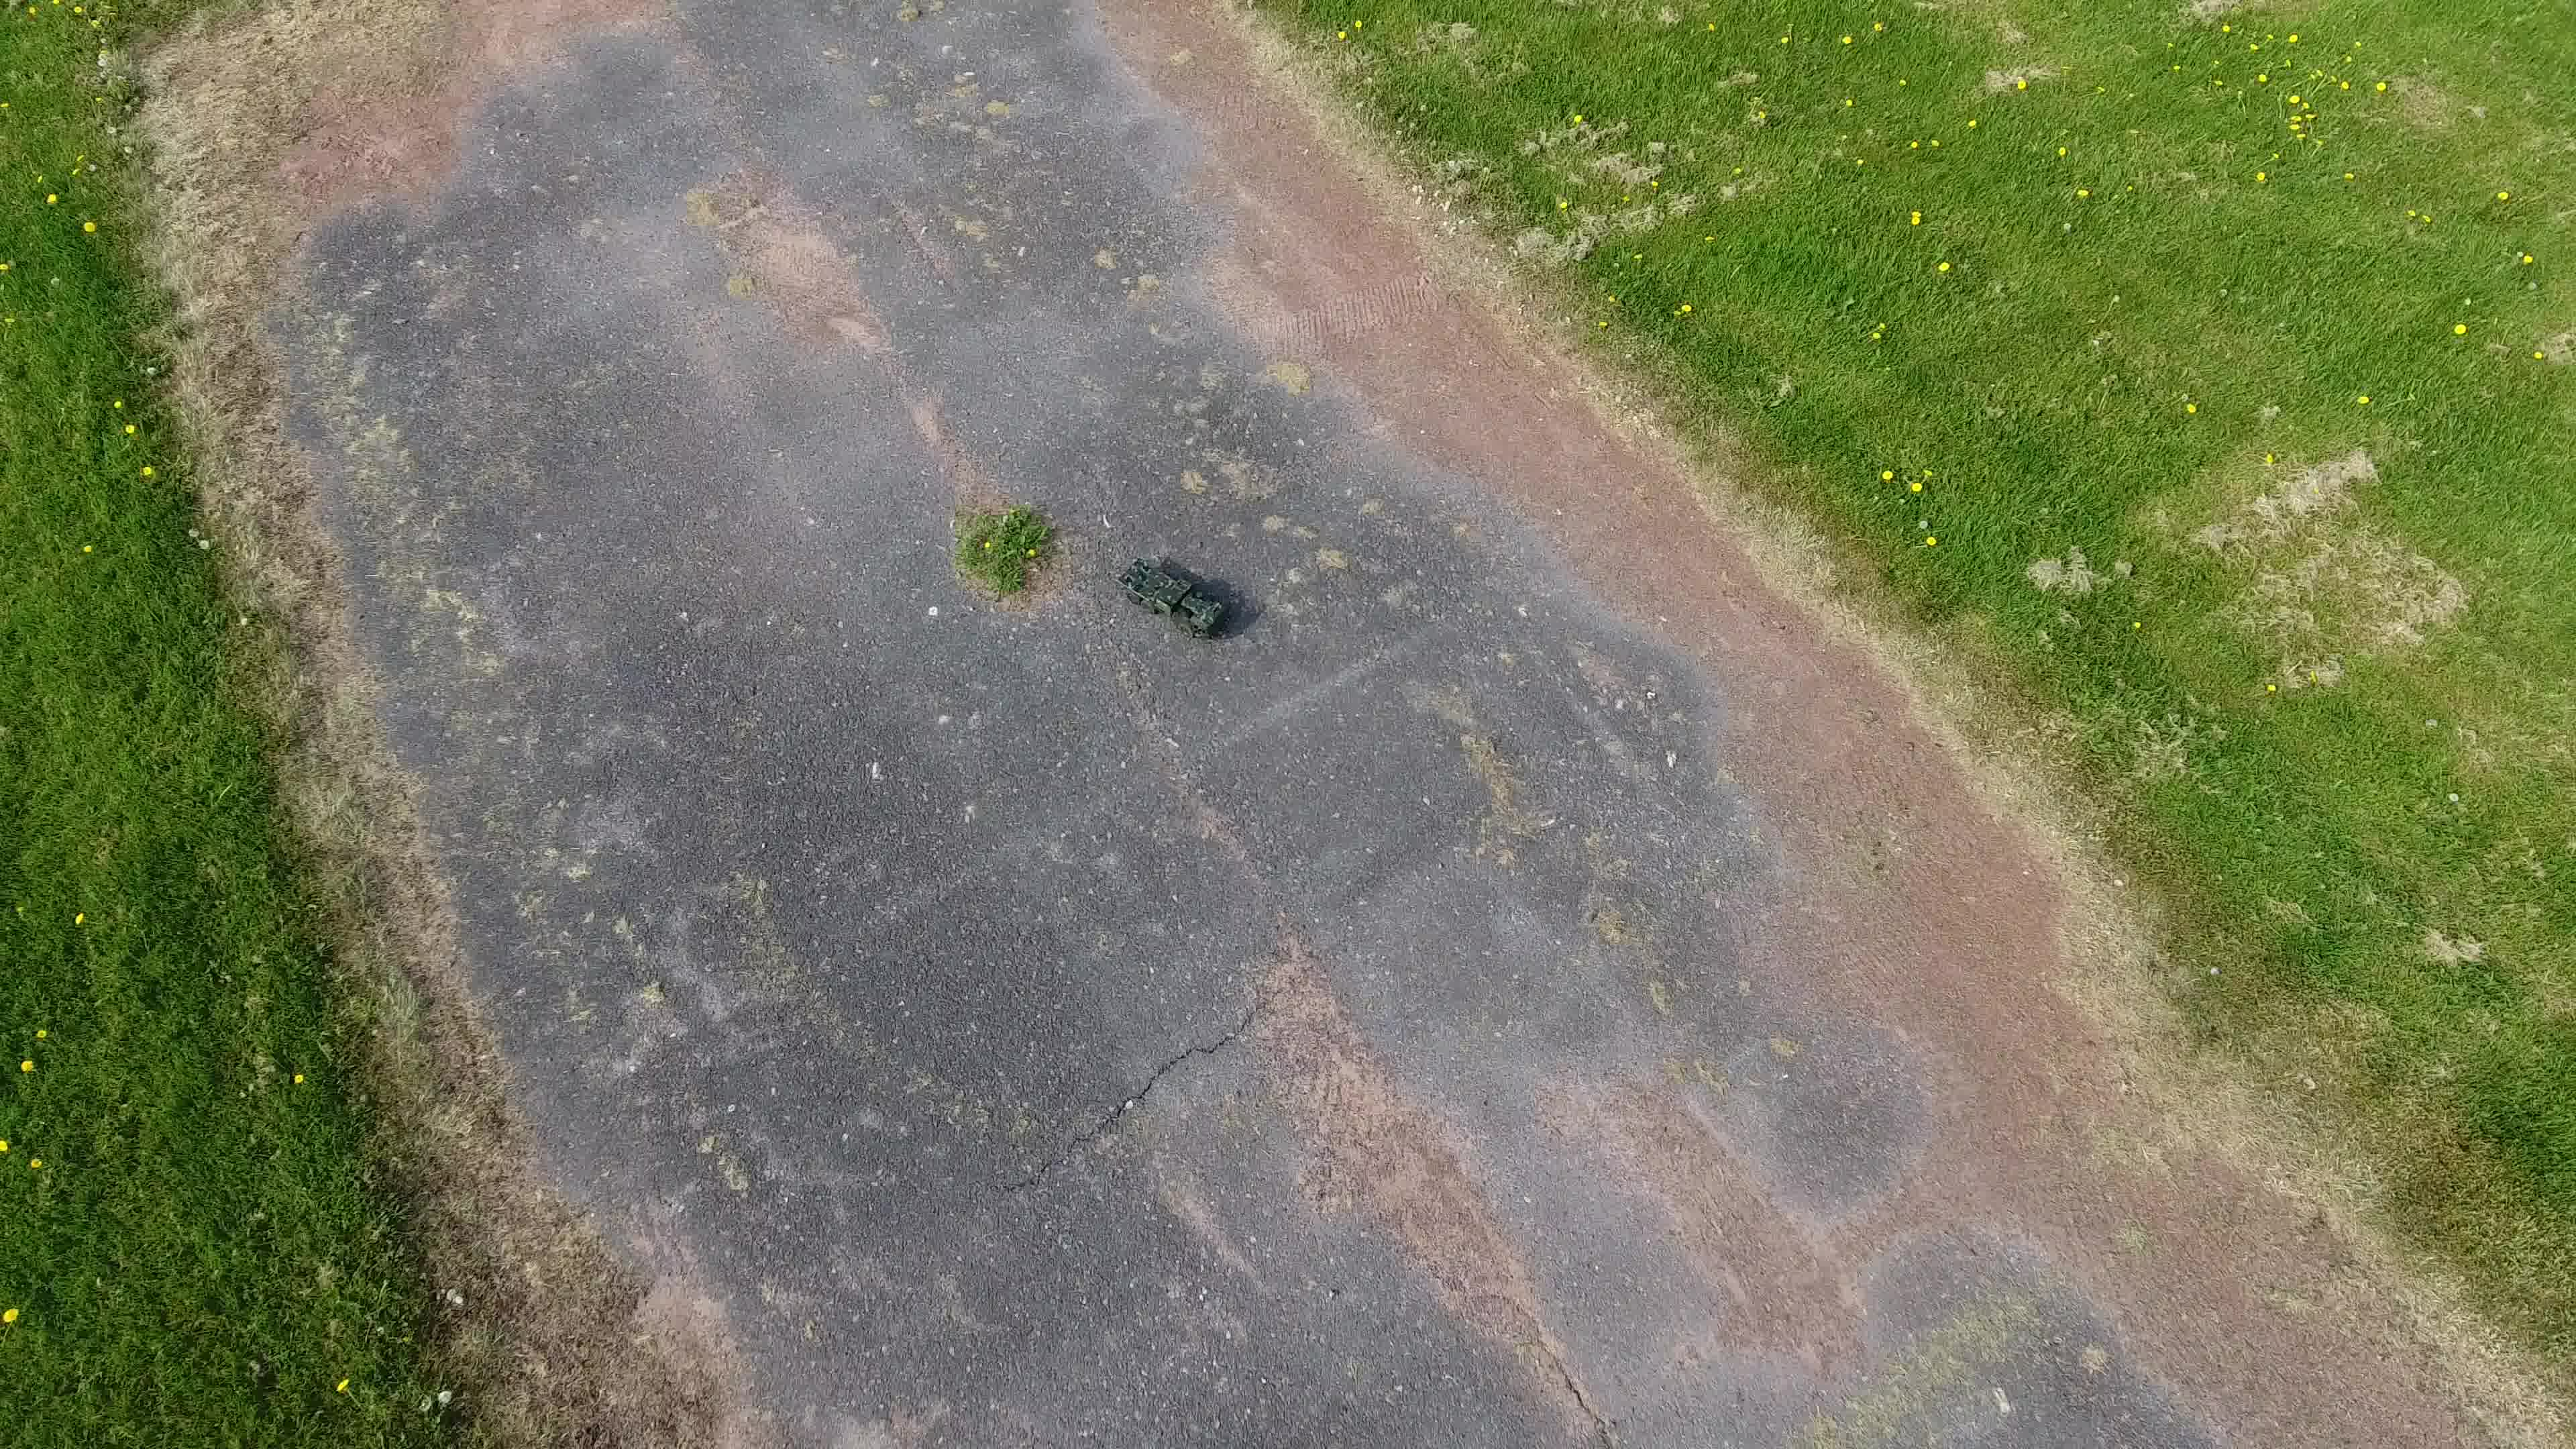transporter9_camo: (1115, 552, 1237, 644)
